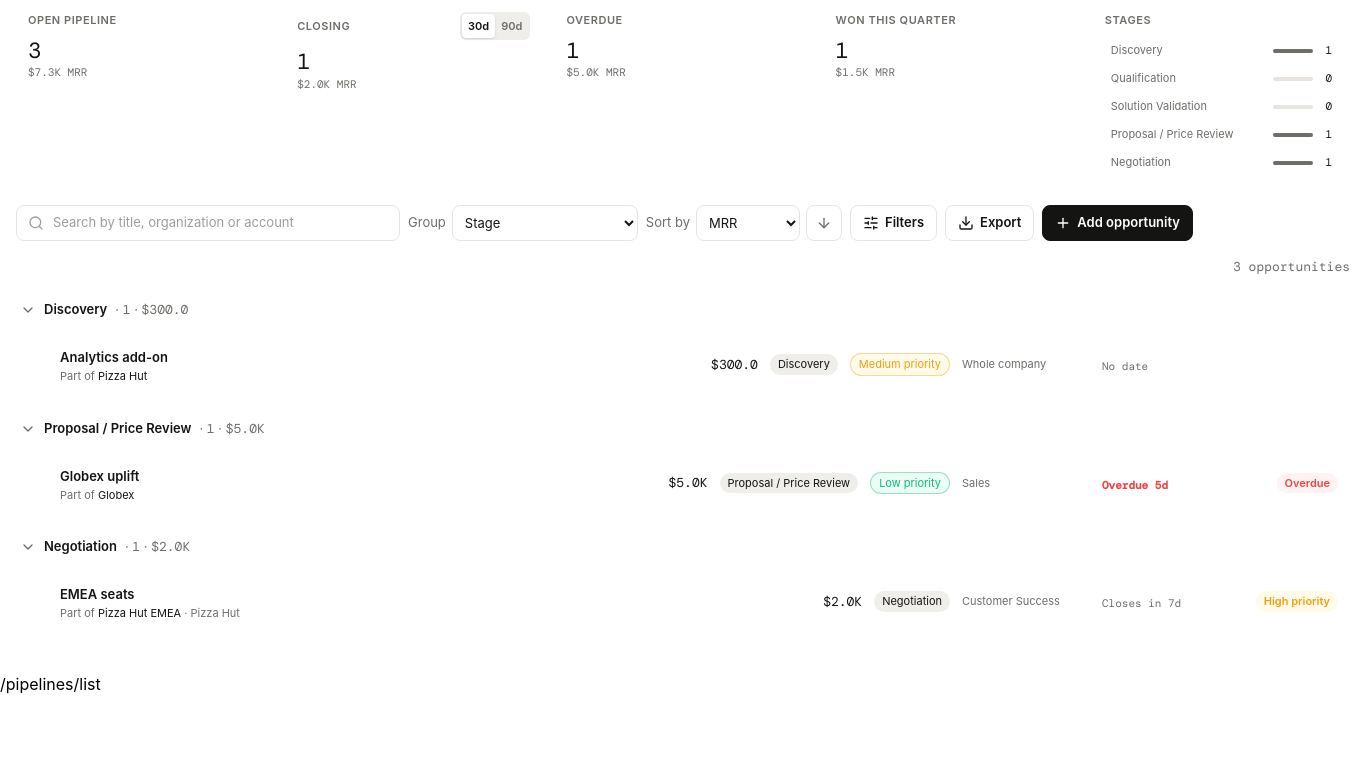
Test case: Pipelines list › opens an item in its form with its date, saves it and reads the book again
Click the button "EMEA seats" at (97, 595), box left=60, top=585, right=134, bottom=604
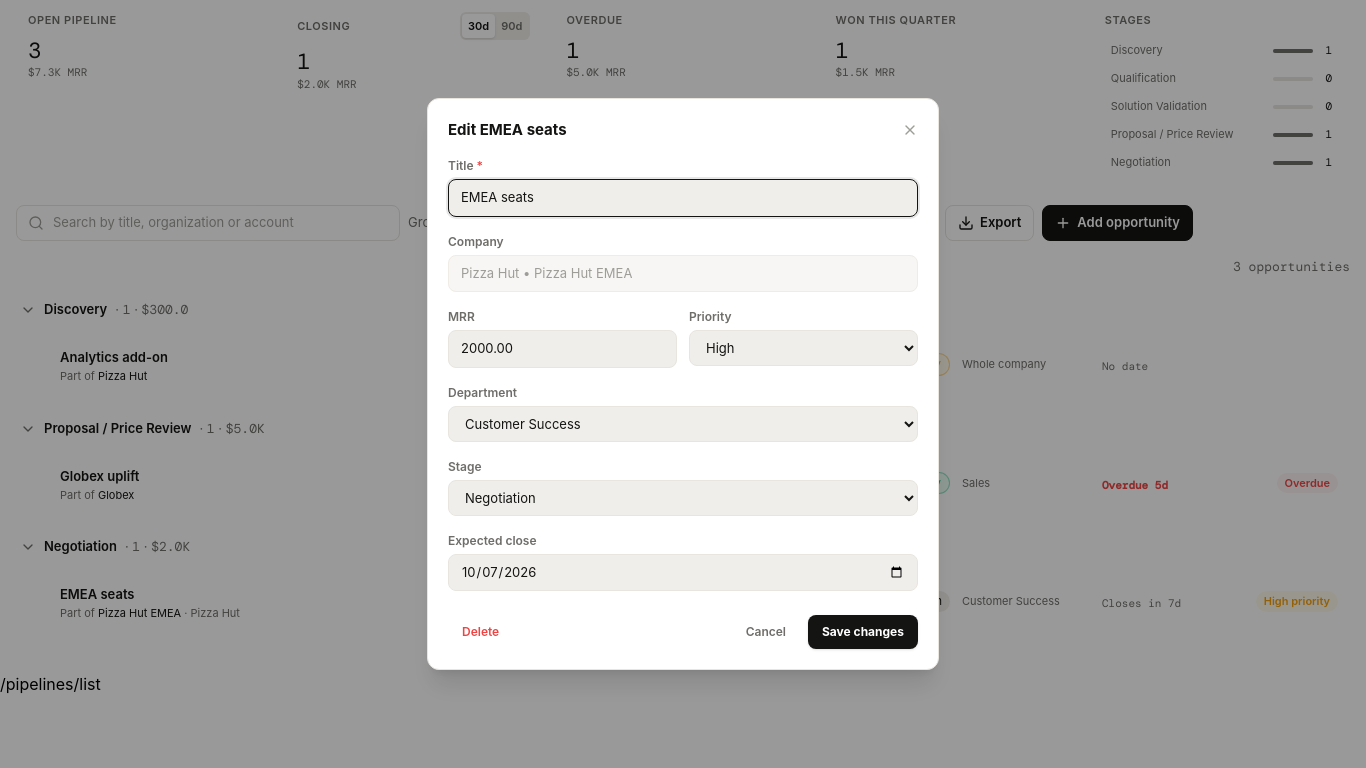
Expected: the heading "Edit EMEA seats" is shown, left=448, top=119, right=567, bottom=141
Expected: the date field labelled "Expected close" holds "2026-10-07"
Type "2026-11-01" into the date field labelled "Expected close" at (683, 573), box left=448, top=554, right=918, bottom=591
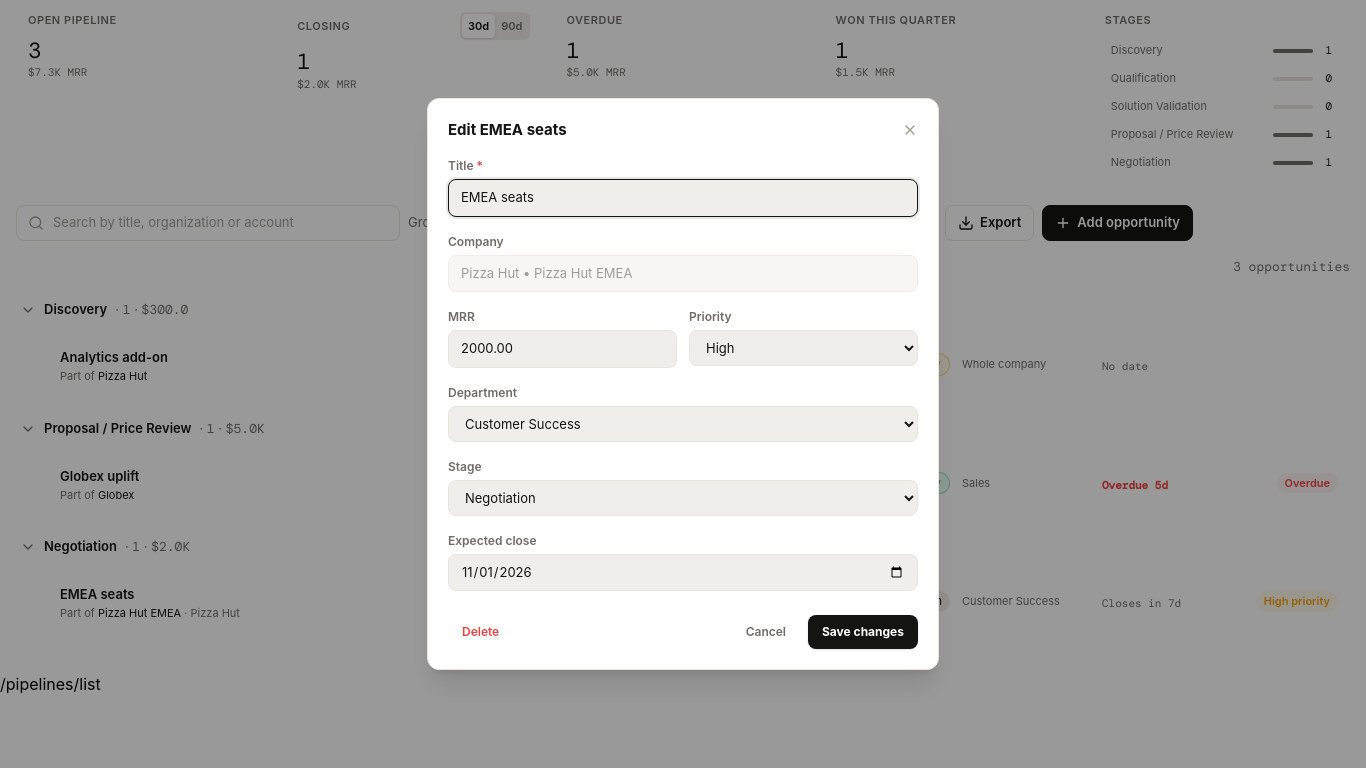
Click the button "Save changes" at (863, 632), box left=808, top=615, right=918, bottom=649
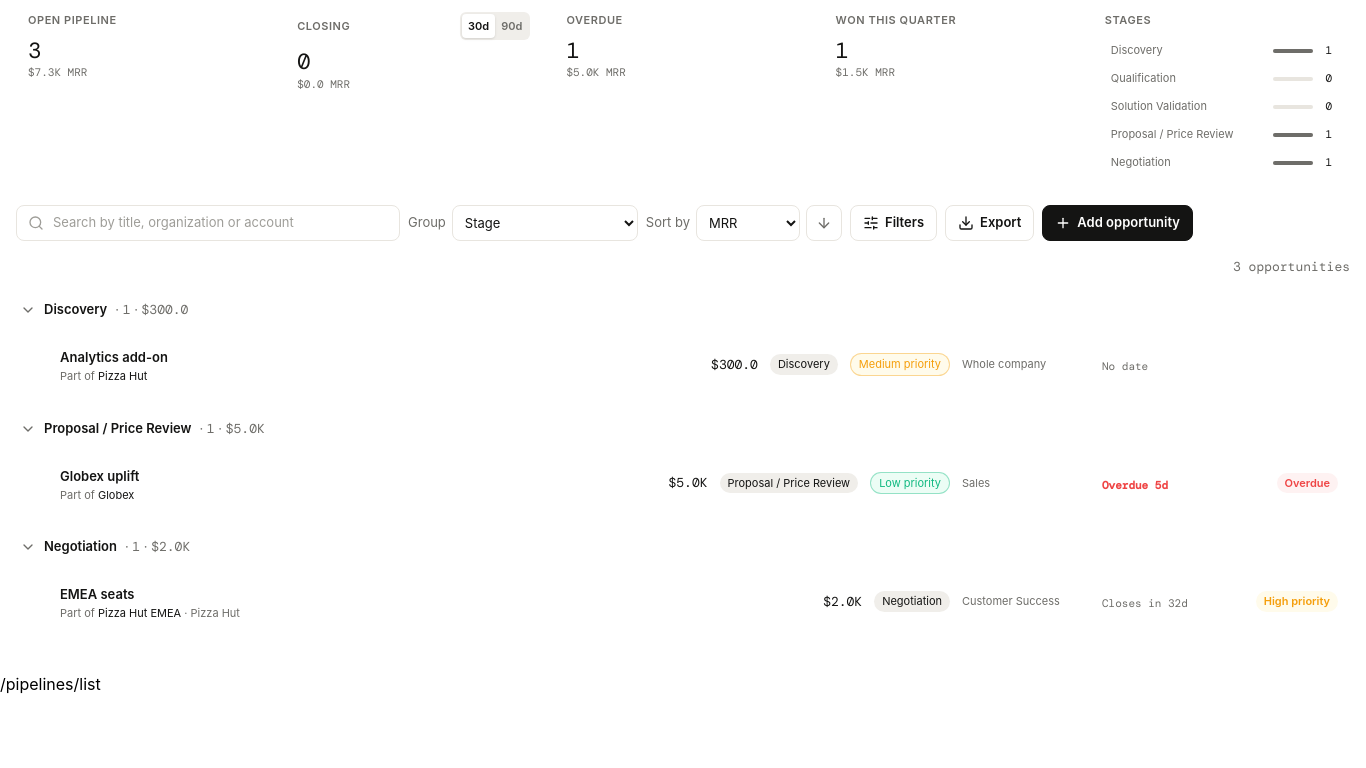
Expected: the text "Closes in 32d" is shown, left=1102, top=596, right=1188, bottom=610
